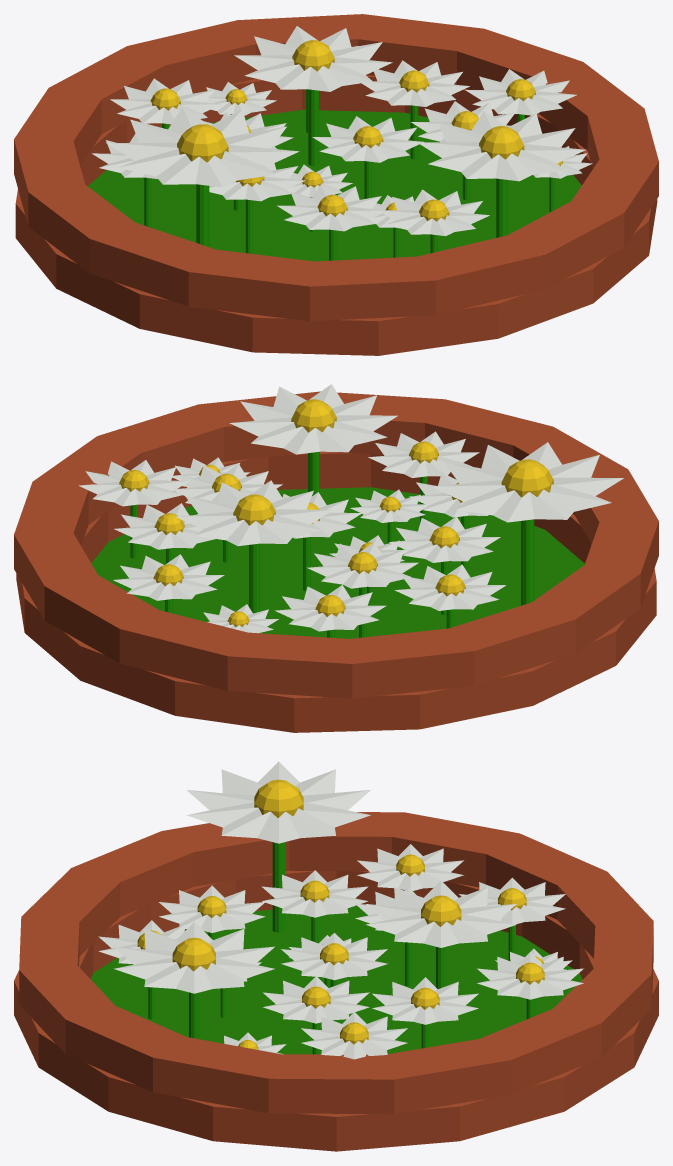
Rendered from flowerbed.fbx.
3 views of the same model, one above another, from view 1: azimuth 30°, elevation 25°; view 2: azimuth 150°, elevation 25°; view 3: azimuth 270°, elevation 25° (orthographic).
Visible parts, largest first — view 1: Circle, Torus.000; view 2: Circle, Torus.000; view 3: Circle, Torus.000.
Boxes of the visible parts, x1=… form: Circle: x1=14, y1=14, x2=658, y2=355; Torus.000: x1=92, y1=26, x2=592, y2=260; Circle: x1=14, y1=391, x2=658, y2=732; Torus.000: x1=79, y1=384, x2=623, y2=637; Circle: x1=14, y1=812, x2=658, y2=1151; Torus.000: x1=98, y1=761, x2=583, y2=1059.
Bounding box in the file's own units: 282 × 78.32 × 282.
